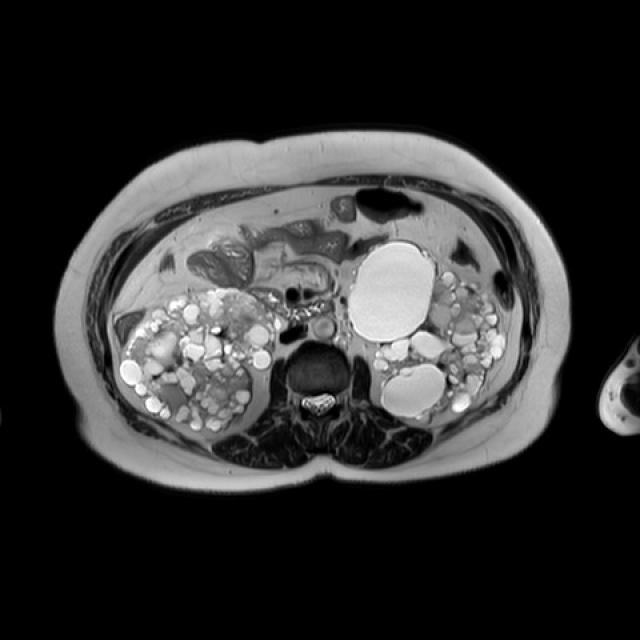sag: (123, 289, 283, 431)
sol: (349, 240, 506, 421)
